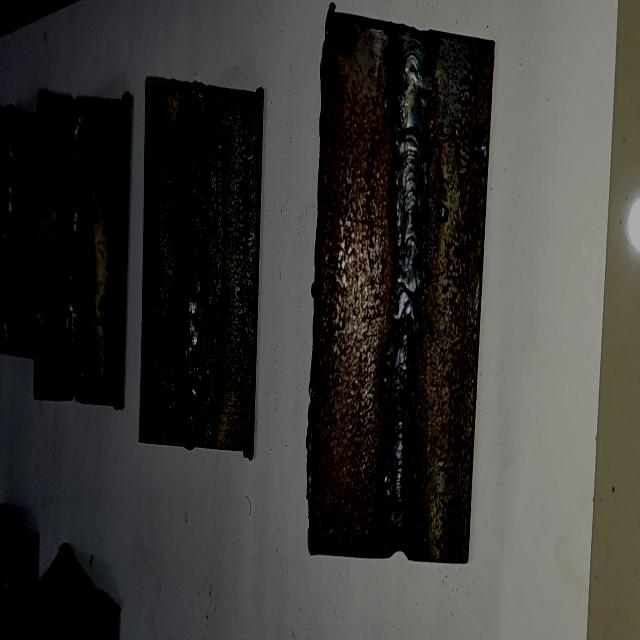Bad Weld: (177, 82, 209, 445), (62, 106, 94, 395)
Defect: (174, 308, 212, 451), (62, 142, 94, 222)
Good Weld: (380, 35, 430, 547), (0, 116, 15, 344)
